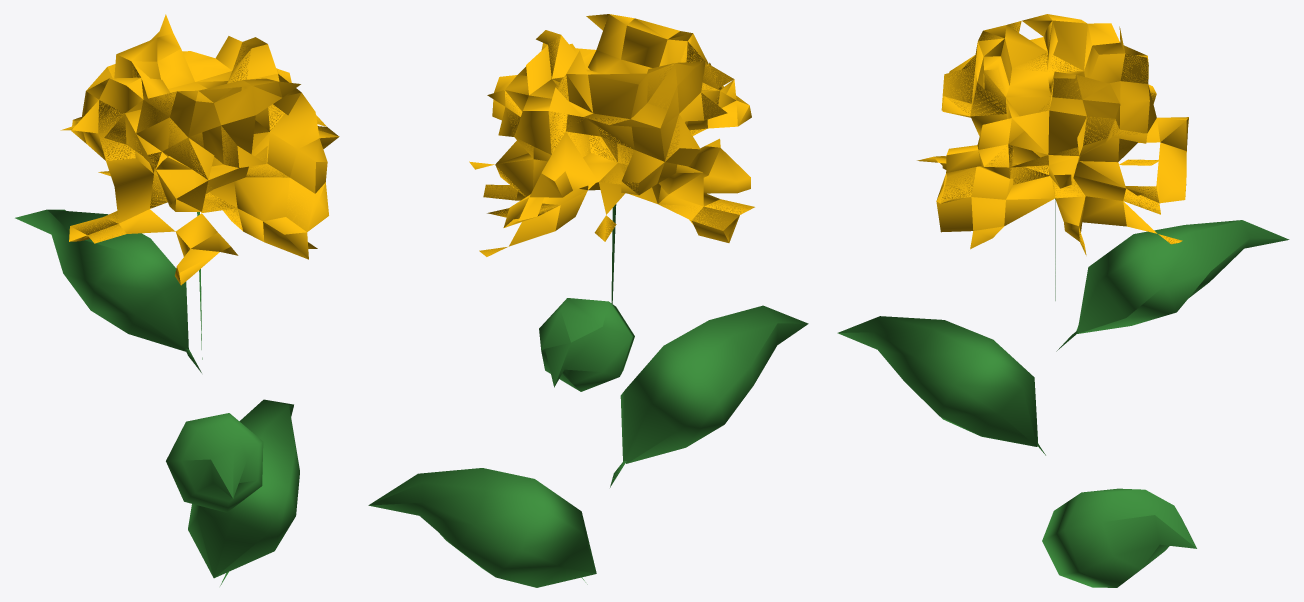
3 views of the same model, side by side, from view 1: azimuth 30°, elevation 25°; view 2: azimuth 150°, elevation 25°; view 3: azimuth 270°, elevation 25° (orthographic). The views are drawn at different scales.
Parts seen in each view (by area): view 1: c501f8c4; view 2: c501f8c4; view 3: c501f8c4.
Part boxes in pixels (x1,y1,x2,y2): c501f8c4: (15,14,339,585); c501f8c4: (368,14,808,587); c501f8c4: (837,14,1289,587).
Size of the model in its own units: 0.1146 by 0.2095 by 0.1603.
